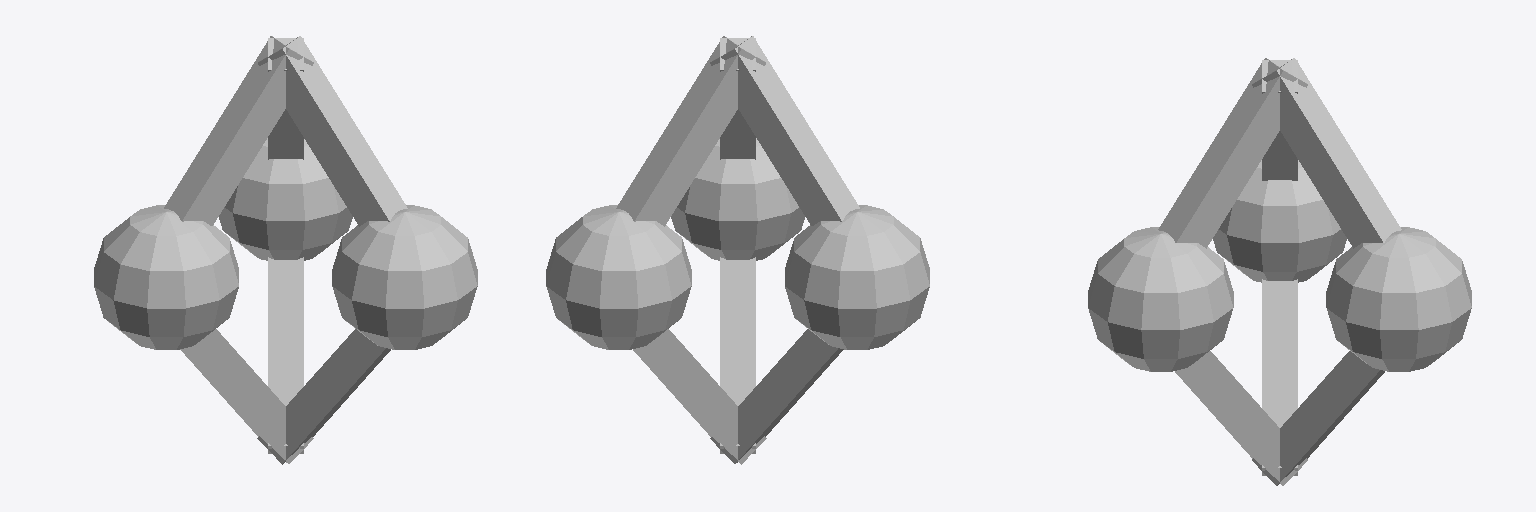
File: steam_engine_no_idea_what_these_are.obj
3 renders of one model, left to right at view 1: azimuth 30°, elevation 25°; view 2: azimuth 150°, elevation 25°; view 3: azimuth 270°, elevation 25°, orthographic.
Visible parts, largest first — view 1: sphere, cube; view 2: sphere, cube; view 3: sphere, cube.
Boxes of the visible parts, x1=… form: sphere: x1=94, y1=138, x2=477, y2=349; cube: x1=164, y1=36, x2=407, y2=464; sphere: x1=546, y1=138, x2=929, y2=349; cube: x1=616, y1=36, x2=859, y2=464; sphere: x1=1088, y1=160, x2=1471, y2=371; cube: x1=1158, y1=58, x2=1401, y2=485.
Bounding box in the file's own units: 0.3023 × 0.394 × 0.3297.